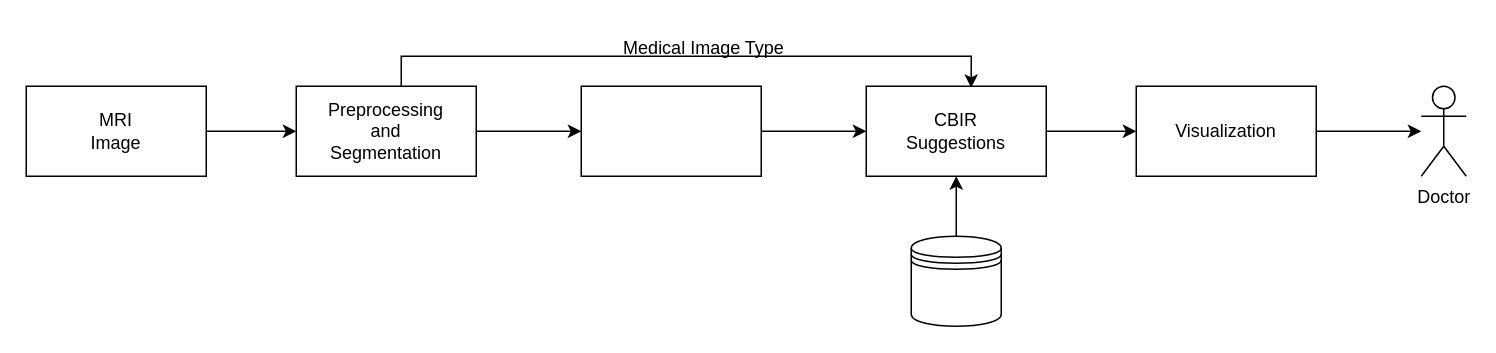
This 1496x353 diagram has some shape labels left out. Here are the shapes that lost their labels. From the top down, the centre of each, then its label:
At (x=670, y=130): "Feature extraction".
At (x=955, y=280): "CBIR Database".
